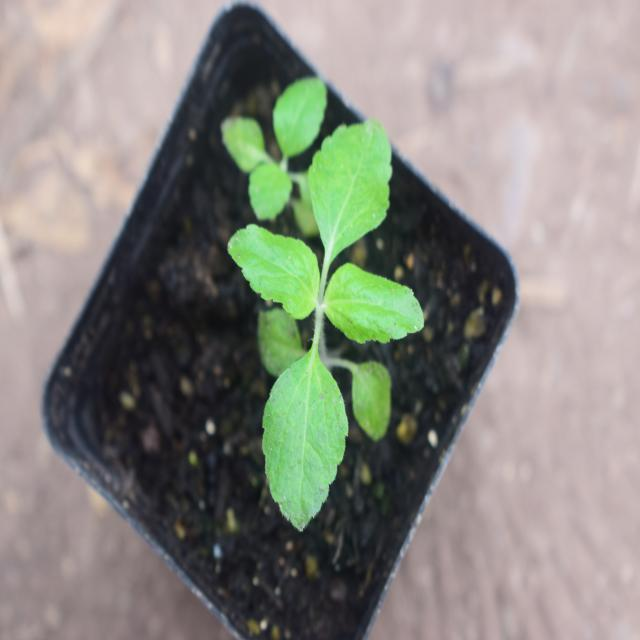billygoat_weed: (231, 101, 412, 507)
